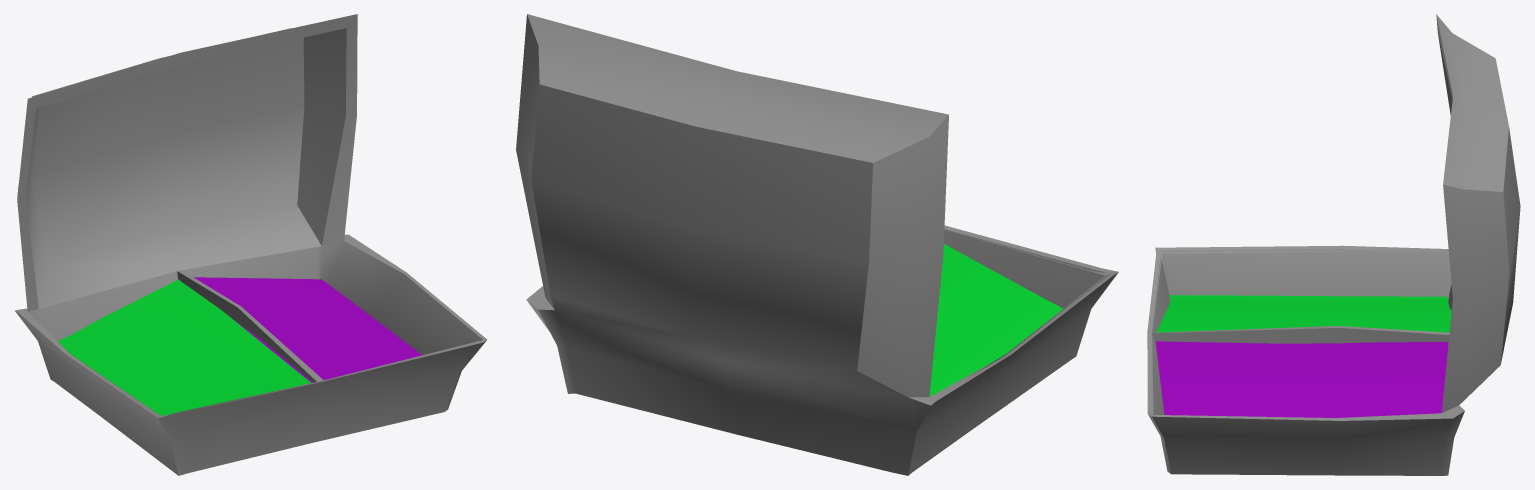
The model's file is SM_Food.FBX.
The picture shows the model from 3 angles, left to right: view 1: azimuth 30°, elevation 25°; view 2: azimuth 150°, elevation 25°; view 3: azimuth 270°, elevation 25°; orthographic projection. The views are drawn at different scales.
Visible parts, largest first — view 1: TakeOut_container; view 2: TakeOut_container; view 3: TakeOut_container.
Boxes of the visible parts, x1,y1,x2,y2 form: TakeOut_container: (15,14,487,475); TakeOut_container: (516,14,1118,475); TakeOut_container: (1147,14,1520,475).
Size of the model in its own units: 0.562 by 0.4577 by 0.5006.
